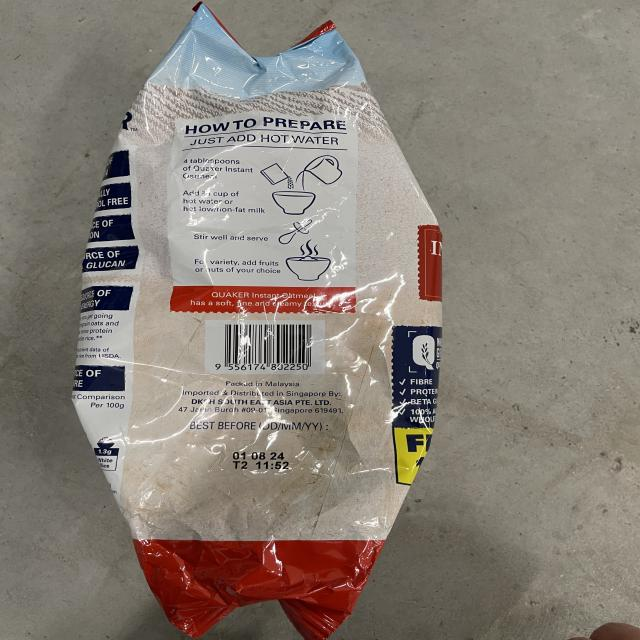object_name: (121, 63, 398, 591)
